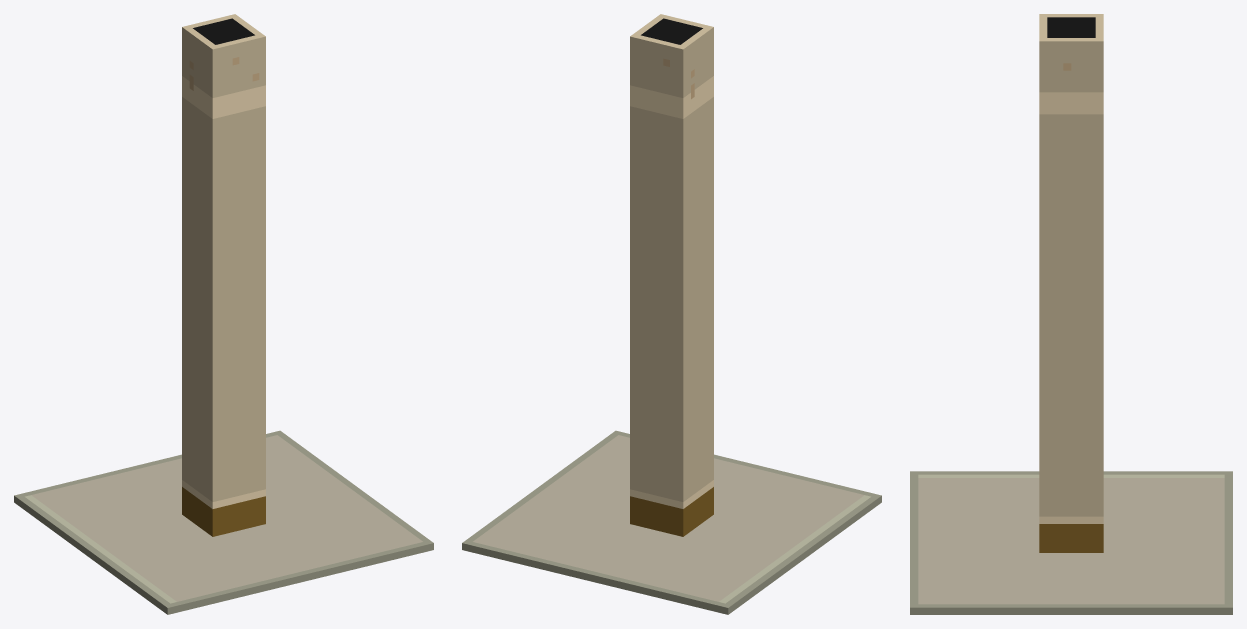
File: Parede_Pilar.obj
The picture shows the model from 3 angles, left to right: view 1: azimuth 30°, elevation 25°; view 2: azimuth 150°, elevation 25°; view 3: azimuth 270°, elevation 25°; orthographic projection. The views are drawn at different scales.
Size of the model in its own units: 40 by 71 by 40.
1 material, 1 textured.
